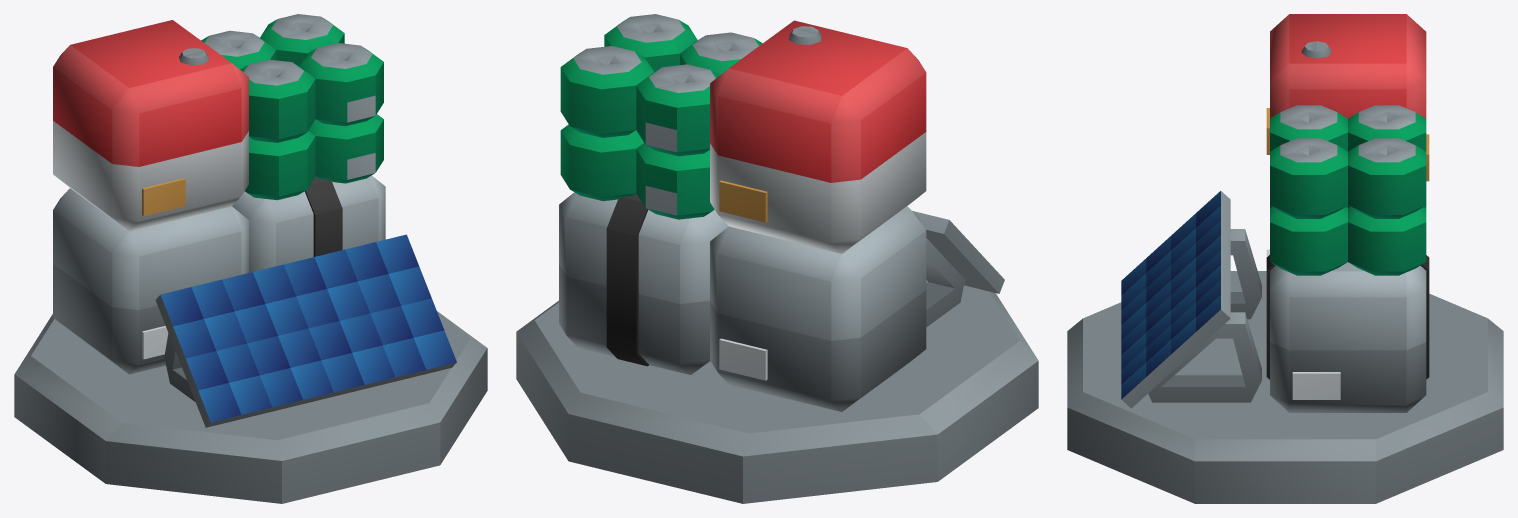
File: roofmodule_cargo_c.glb
3 views of the same model, side by side, from view 1: azimuth 30°, elevation 25°; view 2: azimuth 150°, elevation 25°; view 3: azimuth 270°, elevation 25° (orthographic). The views are drawn at different scales.
Parts seen in each view (by area): view 1: roofmodule_cargo_C; view 2: roofmodule_cargo_C; view 3: roofmodule_cargo_C.
Boxes of the visible parts, <box> form: roofmodule_cargo_C: <box>14,14,487,503</box>; roofmodule_cargo_C: <box>516,14,1038,503</box>; roofmodule_cargo_C: <box>1067,14,1503,503</box>.
Bounding box in the file's own units: 4.19 × 3.66 × 4.19.
Materials: 1 (1 with a texture image).
